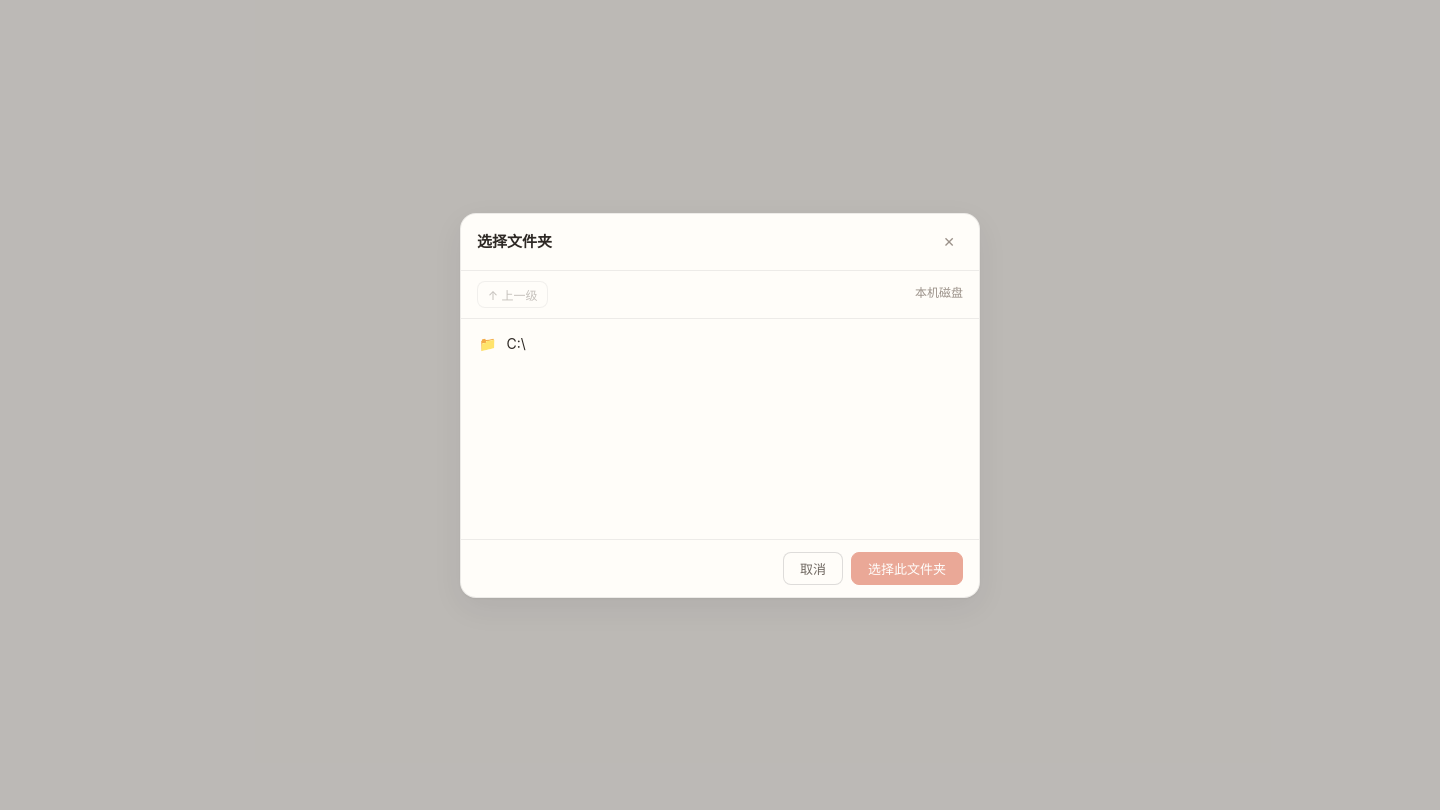
Test: FolderPickerModal › 点击目录进入并显示子项；文件行不可点击
The width and height of the screenshot is (1440, 810).
Click the text "C:\\" at (516, 343), box top-left (506, 334), bottom-right (526, 352)
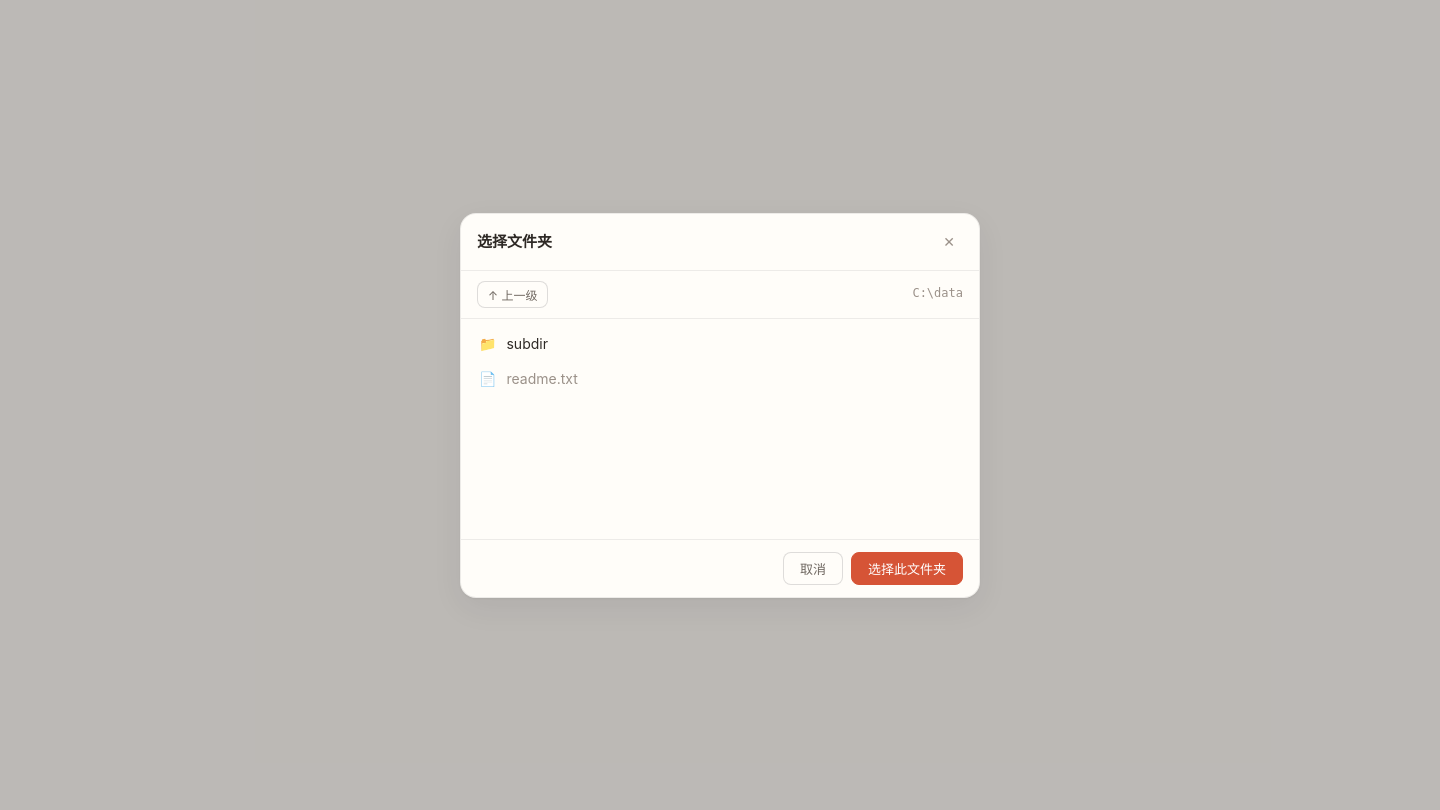
Now the text "subdir" is shown, box top-left (506, 334), bottom-right (548, 352)
Now the text "readme.txt" is shown, box top-left (506, 368), bottom-right (578, 390)
Now the button "选择此文件夹" is enabled, box top-left (851, 552), bottom-right (963, 584)
